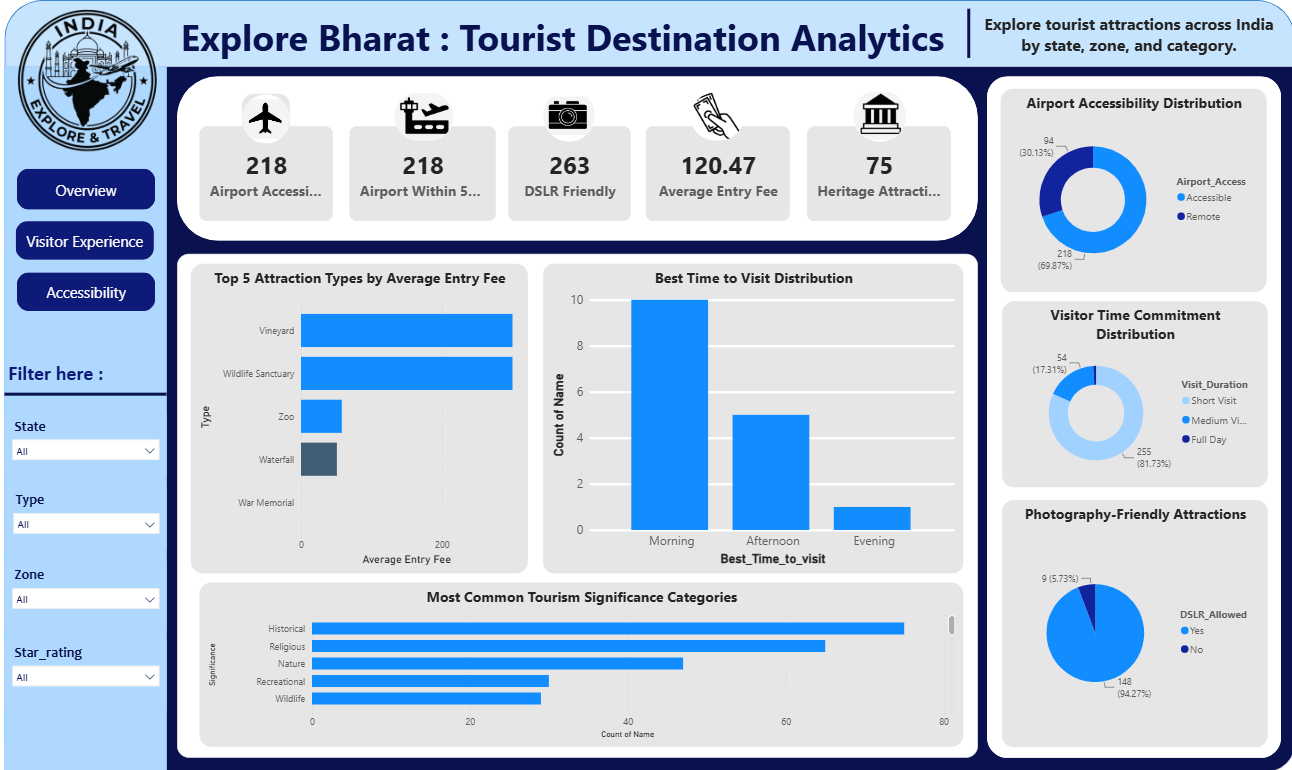

Layout of this report page (visuals, bound fields, positions):
{"tool":"powerbi","page":{"name":"Accessibility and Travel Insights ","canvas":[1730,1030],"ordinal":3},"visuals":[{"type":"shape","box":[9.6,0,1720.7,1029.2],"z":0},{"type":"shape","box":[9.6,88,1720.7,941.2],"z":1000},{"type":"shape","box":[240.1,100.8,1067.6,219.3],"z":2000,"group":"g1"},{"type":"shape","box":[1320.5,100.8,392.2,909.2],"z":2000},{"type":"shape","box":[240.1,337.7,1067.6,672.3],"z":3000},{"type":"shape","box":[9.6,88,216.1,941.2],"z":4000},{"type":"clusteredColumnChart","title":"Best Time to Visit Distribution","fields":{"Category":["Cleaned Dataset.Best_Time_to_visit"],"Y":["CountNonNull(Cleaned Dataset.Name)"]},"box":[728.3,352.1,560.2,413],"z":5000},{"type":"actionButton","box":[27.2,225.7,184.1,54.4],"z":6000},{"type":"actionButton","box":[25.6,294.5,184.1,51.2],"z":7000},{"type":"donutChart","title":"Airport Accessibility Distribution","fields":{"Y":["CountNonNull(Cleaned Dataset.Name)"],"Category":["Cleaned Dataset.Airport_Access"]},"box":[1338.1,117.5,354.4,271],"z":8000},{"type":"actionButton","box":[27.2,363.4,184.1,51.2],"z":9000},{"type":"barChart","title":"Top 5 Attraction Types by Average Entry Fee","fields":{"Category":["Cleaned Dataset.Type"],"Y":["Cleaned Dataset.Average Entry Fee"]},"box":[257.7,352.1,449.8,413],"z":10000},{"type":"shape","box":[9.6,457.8,216.1,134.5],"z":11000},{"type":"textbox","box":[240.1,11.2,1120.5,76.8],"z":12000,"group":"g2"},{"type":"pieChart","title":"Photography-Friendly Attractions","fields":{"Y":["CountNonNull(Cleaned Dataset.Name)"],"Category":["Cleaned Dataset.DSLR_Allowed"]},"box":[1340,667.1,354.4,329.8],"z":12000},{"type":"textbox","box":[1307.7,11.2,401.8,76.8],"z":13000,"group":"g2"},{"type":"textbox","box":[9.6,477,230.5,48],"z":13000},{"type":"shape","box":[1272.5,11.2,48,65.6],"z":14000,"group":"g2"},{"type":"slicer","fields":{"Values":["Cleaned Dataset.State"]},"box":[9.6,552.2,216.1,83.2],"z":14000},{"type":"group","id":"g1","title":"Group 2","box":[240.1,100.8,1067.6,219.3],"z":15000},{"type":"cardVisual","fields":{"Data":["Cleaned Dataset.Airport Accessible"]},"box":[270.5,168,177.7,126.5],"z":15000,"group":"g1"},{"type":"cardVisual","fields":{"Data":["Cleaned Dataset.Airport Within 50 KM"]},"box":[470.6,168,195.3,126.5],"z":16000,"group":"g1"},{"type":"slicer","fields":{"Values":["Cleaned Dataset.Type"]},"box":[11.2,649.9,214.5,81.6],"z":16000},{"type":"group","id":"g2","title":"Group 3","box":[240.1,11.2,1469.4,76.8],"z":17000},{"type":"cardVisual","fields":{"Data":["Cleaned Dataset.DSLR Friendly"]},"box":[681.9,168,163.3,126.5],"z":17000,"group":"g1"},{"type":"cardVisual","fields":{"Data":["Cleaned Dataset.Average Entry Fee"]},"box":[864.4,168,192.1,126.5],"z":18000,"group":"g1"},{"type":"slicer","fields":{"Values":["Cleaned Dataset.Zone"]},"box":[9.6,750.7,216.1,91.2],"z":18000},{"type":"cardVisual","fields":{"Data":["Cleaned Dataset.Heritage Attractions"]},"box":[1080.4,168,192.1,126.5],"z":19000,"group":"g1"},{"type":"donutChart","title":"Visitor Time Commitment Distribution","fields":{"Category":["Cleaned Dataset.Visit_Duration"],"Y":["CountNonNull(Cleaned Dataset.Name)"]},"box":[1340,401.8,354.4,248.3],"z":19000},{"type":"image","box":[326.4,123.5,64,67.2],"z":20000,"group":"g1"},{"type":"barChart","title":"Most Common Tourism Significance Categories","fields":{"Y":["CountNonNull(Cleaned Dataset.Name)"],"Category":["Cleaned Dataset.Significance"]},"box":[270.5,776.3,1018,219.3],"z":20000},{"type":"image","box":[4.8,4.8,228.9,206.5],"z":21000},{"type":"image","box":[529.8,123.2,78.4,64],"z":21000,"group":"g1"},{"type":"image","box":[728.3,118.4,68.8,68.8],"z":22000,"group":"g1"},{"type":"slicer","fields":{"Values":["Cleaned Dataset.Star_rating"]},"box":[9.6,853.2,216.1,94.4],"z":22000},{"type":"image","box":[925.2,123.2,70.4,64],"z":23000,"group":"g1"},{"type":"image","box":[1141.3,118.4,70.4,68.8],"z":24000,"group":"g1"}]}

Visuals, with their boxes in screenshot pixels (x1, y1, x2, y2), scaled from the page's 1730x1030 canvas onto the 1292x770 screenshot:
shape: bbox=(7, 0, 1291, 769)
shape: bbox=(7, 66, 1291, 769)
shape: bbox=(179, 75, 977, 239)
shape: bbox=(986, 75, 1279, 755)
shape: bbox=(179, 252, 977, 755)
shape: bbox=(7, 66, 169, 769)
"Best Time to Visit Distribution" clusteredColumnChart: bbox=(544, 263, 962, 572)
actionButton: bbox=(20, 169, 158, 209)
actionButton: bbox=(19, 220, 157, 258)
"Airport Accessibility Distribution" donutChart: bbox=(999, 88, 1264, 290)
actionButton: bbox=(20, 272, 158, 310)
"Top 5 Attraction Types by Average Entry Fee" barChart: bbox=(192, 263, 528, 572)
shape: bbox=(7, 342, 169, 443)
textbox: bbox=(179, 8, 1016, 66)
"Photography-Friendly Attractions" pieChart: bbox=(1001, 499, 1265, 745)
textbox: bbox=(977, 8, 1277, 66)
textbox: bbox=(7, 357, 179, 392)
shape: bbox=(950, 8, 986, 57)
slicer - Cleaned Dataset.State: bbox=(7, 413, 169, 475)
"Group 2" group: bbox=(179, 75, 977, 239)
cardVisual - Cleaned Dataset.Airport Accessible: bbox=(202, 126, 335, 220)
cardVisual - Cleaned Dataset.Airport Within 50 KM: bbox=(351, 126, 497, 220)
slicer - Cleaned Dataset.Type: bbox=(8, 486, 169, 547)
"Group 3" group: bbox=(179, 8, 1277, 66)
cardVisual - Cleaned Dataset.DSLR Friendly: bbox=(509, 126, 631, 220)
cardVisual - Cleaned Dataset.Average Entry Fee: bbox=(646, 126, 789, 220)
slicer - Cleaned Dataset.Zone: bbox=(7, 561, 169, 629)
cardVisual - Cleaned Dataset.Heritage Attractions: bbox=(807, 126, 950, 220)
"Visitor Time Commitment Distribution" donutChart: bbox=(1001, 300, 1265, 486)
image: bbox=(244, 92, 292, 143)
"Most Common Tourism Significance Categories" barChart: bbox=(202, 580, 962, 744)
image: bbox=(4, 4, 175, 158)
image: bbox=(396, 92, 454, 140)
image: bbox=(544, 89, 595, 140)
slicer - Cleaned Dataset.Star_rating: bbox=(7, 638, 169, 708)
image: bbox=(691, 92, 744, 140)
image: bbox=(852, 89, 905, 140)
